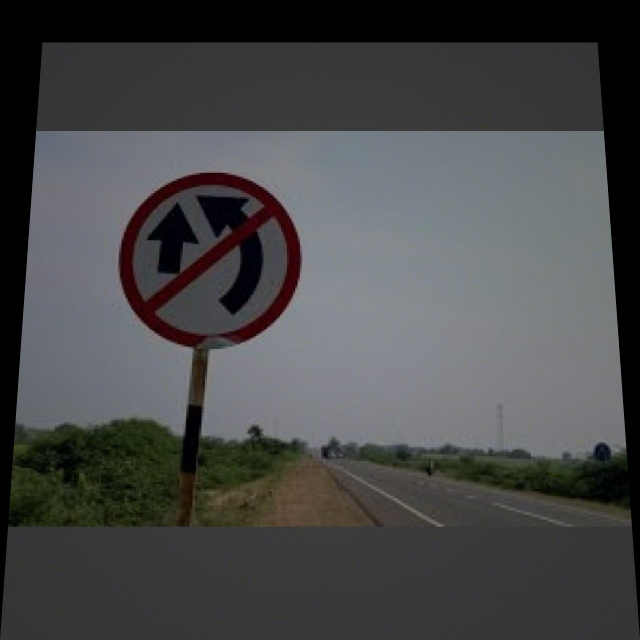Overtaking_Prohibited: (125, 174, 295, 343)
